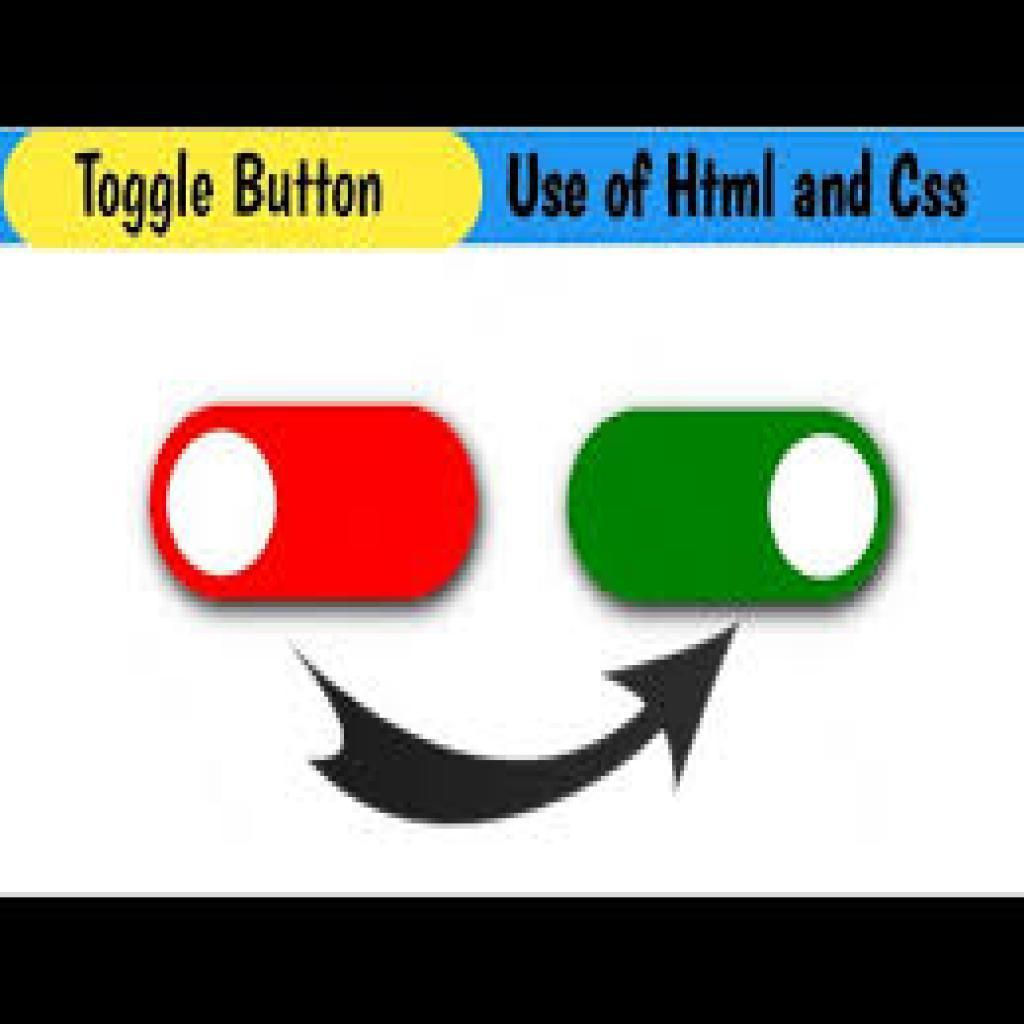switch: (151, 407, 479, 602), (570, 411, 896, 606)
